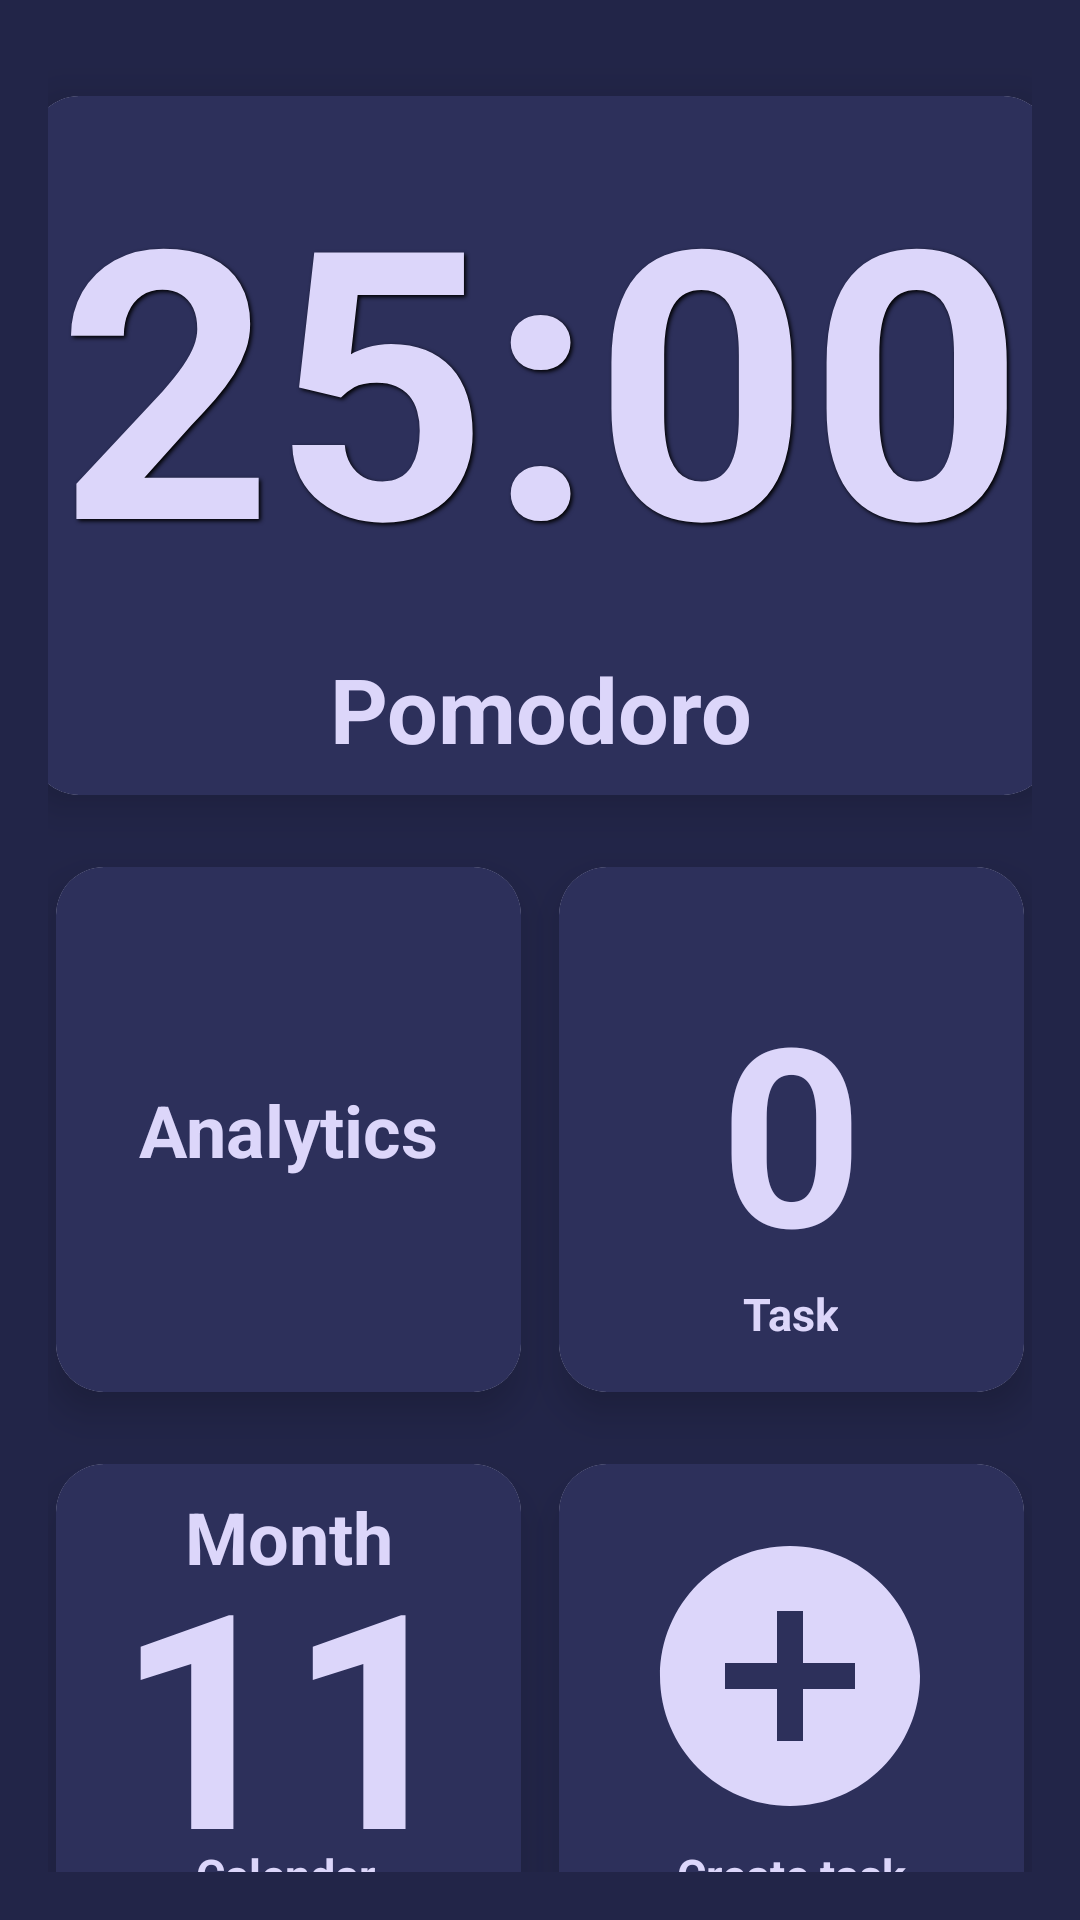

Icon click points for this 1080x1920 phone screenshot, format [x,y]:
add circle: [790,1676]
